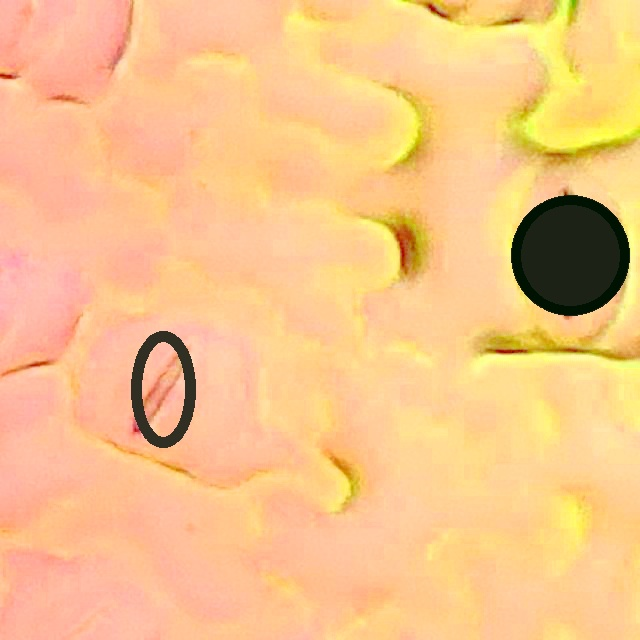open: (511, 195, 628, 315), (130, 331, 196, 447)
